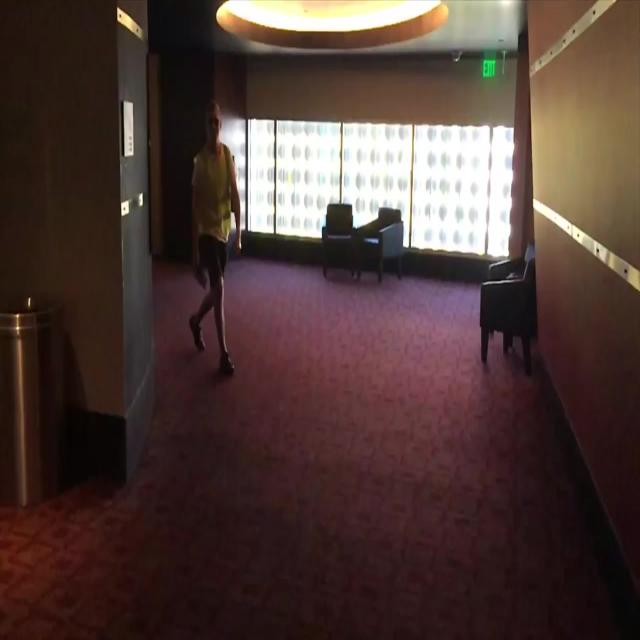Reflective-Jacket: (188, 139, 242, 257)
